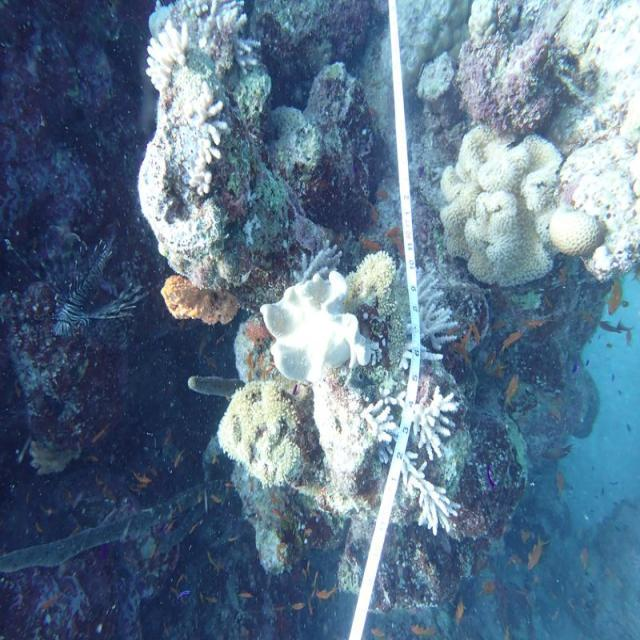Bleached Coral: (139, 5, 244, 206), (353, 396, 496, 541), (251, 277, 385, 386)
Healthy Coral: (446, 129, 562, 279)
